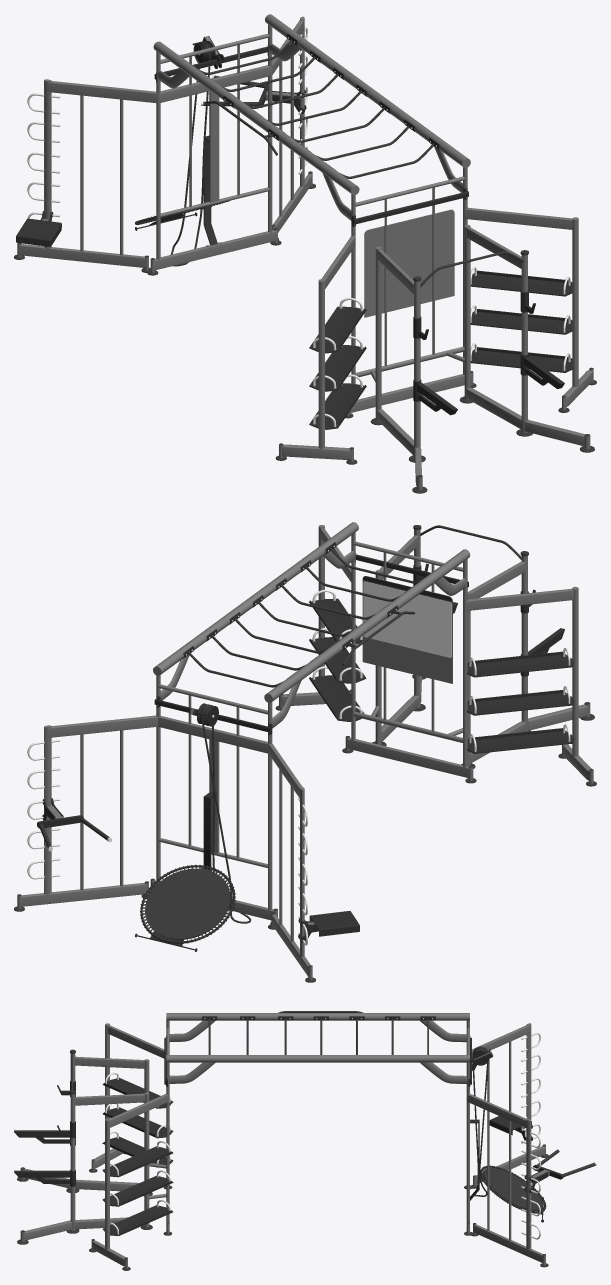
The model's file is gym_machine.compressed.glb.
3 renders of one model, top to bottom at view 1: azimuth 30°, elevation 25°; view 2: azimuth 150°, elevation 25°; view 3: azimuth 270°, elevation 25°, orthographic. The views are drawn at different scales.
Parts seen in each view (by area): view 1: Atlas_016, Atlas_0159, Atlas_0148, Atlas_0122, Atlas_001, Atlas_006, Atlas_002, Atlas_003, Atlas_0133, Atlas_0134, Atlas_0210, Atlas_0132 (+9 smaller); view 2: Atlas_016, Atlas_0159, Atlas_040, Atlas_0122, Atlas_0149, Atlas_001, Atlas_002, Atlas_0148, Atlas_006, Atlas_003, Atlas_0129, Atlas_0123 (+10 smaller); view 3: Atlas_016, Atlas_0159, Atlas_0122, Atlas_003, Atlas_006, Atlas_0210, Atlas_040, Atlas_0133, Atlas_0134, Atlas_0132, Atlas_001, Atlas_002 (+8 smaller).
Boxes of the visible parts, bbox=[...] form: Atlas_016: bbox=[14, 16, 315, 272]; Atlas_0159: bbox=[370, 225, 594, 493]; Atlas_0148: bbox=[364, 209, 454, 317]; Atlas_0122: bbox=[275, 207, 596, 464]; Atlas_001: bbox=[147, 24, 281, 275]; Atlas_006: bbox=[153, 41, 359, 194]; Atlas_002: bbox=[345, 167, 476, 418]; Atlas_003: bbox=[265, 14, 470, 167]; Atlas_0133: bbox=[470, 309, 572, 334]; Atlas_0134: bbox=[470, 270, 572, 296]; Atlas_0210: bbox=[413, 353, 564, 415]; Atlas_0132: bbox=[470, 347, 572, 372]; Atlas_016: bbox=[14, 715, 315, 982]; Atlas_0159: bbox=[371, 525, 594, 768]; Atlas_040: bbox=[145, 868, 230, 939]; Atlas_0122: bbox=[275, 525, 596, 786]; Atlas_0149: bbox=[363, 581, 451, 657]; Atlas_001: bbox=[149, 675, 277, 924]; Atlas_002: bbox=[342, 532, 476, 783]; Atlas_0148: bbox=[362, 576, 452, 683]; Atlas_006: bbox=[264, 549, 470, 702]; Atlas_003: bbox=[153, 522, 358, 675]; Atlas_0129: bbox=[466, 651, 574, 677]; Atlas_0123: bbox=[466, 728, 573, 753]; Atlas_016: bbox=[467, 1023, 548, 1267]; Atlas_0159: bbox=[17, 1049, 166, 1244]; Atlas_0122: bbox=[89, 1023, 168, 1270]; Atlas_003: bbox=[166, 1055, 469, 1062]; Atlas_006: bbox=[166, 1013, 469, 1020]; Atlas_0210: bbox=[14, 1130, 75, 1186]; Atlas_040: bbox=[483, 1168, 542, 1210]; Atlas_0133: bbox=[102, 1175, 173, 1206]; Atlas_0134: bbox=[102, 1146, 172, 1177]; Atlas_0132: bbox=[102, 1205, 172, 1235]; Atlas_001: bbox=[464, 1020, 472, 1235]; Atlas_002: bbox=[163, 1020, 172, 1235].
Bounding box in the file's own units: 17.05 × 11.3 × 33.71.
Materials: 1 (1 with a texture image).
